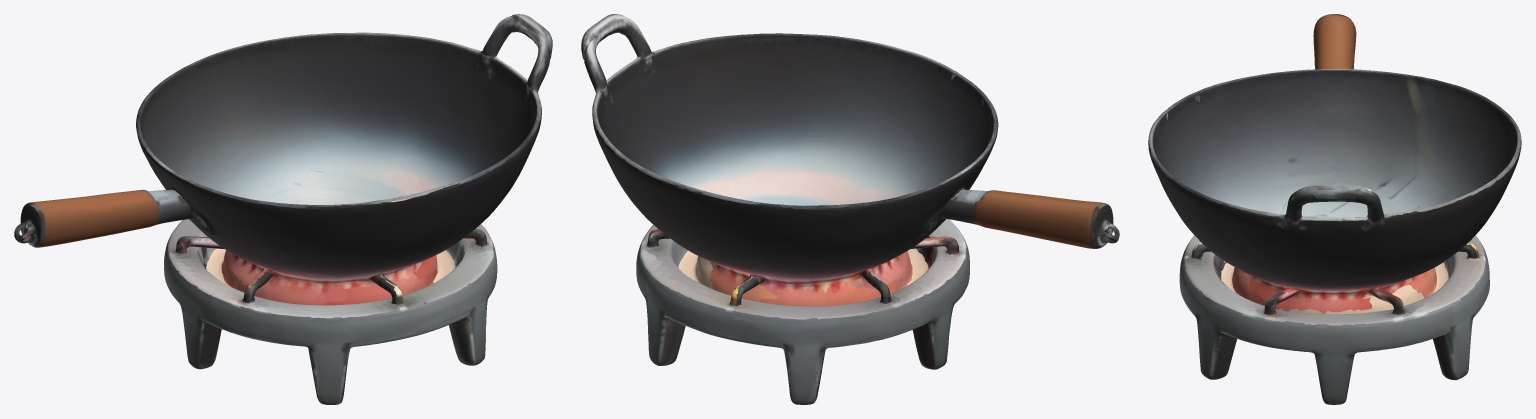
The picture shows the model from 3 angles, left to right: view 1: azimuth 30°, elevation 25°; view 2: azimuth 150°, elevation 25°; view 3: azimuth 270°, elevation 25°; orthographic projection. The views are drawn at different scales.
Visible parts, largest first — view 1: tmp4onzghtx.ply; view 2: tmp4onzghtx.ply; view 3: tmp4onzghtx.ply.
Boxes of the visible parts, left/top/right/bottom form: tmp4onzghtx.ply: left=14, top=14, right=552, bottom=404; tmp4onzghtx.ply: left=581, top=14, right=1119, bottom=404; tmp4onzghtx.ply: left=1148, top=14, right=1521, bottom=404.
Bounding box in the file's own units: 196 × 94.38 × 128.
1 material, 1 textured.
